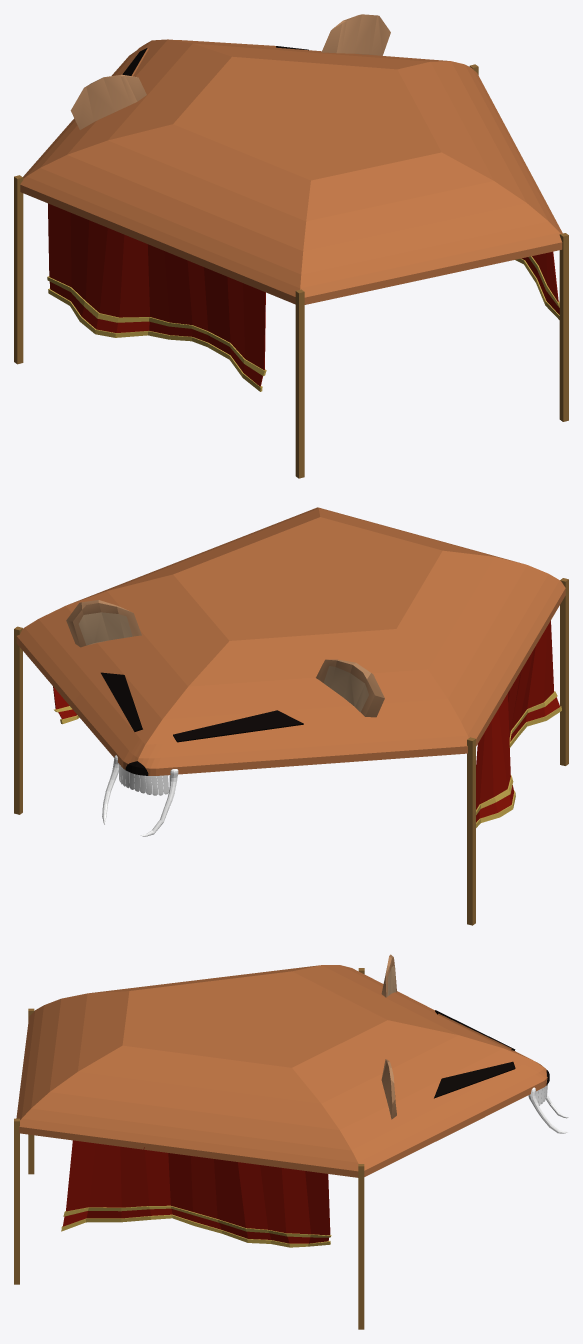
Rendered from lv3huntCenter.glb.
3 renders of one model, top to bottom at view 1: azimuth 30°, elevation 25°; view 2: azimuth 150°, elevation 25°; view 3: azimuth 270°, elevation 25°, orthographic. The views are drawn at different scales.
Visible parts, largest first — view 1: Plane.001, Plane, Cube.001, Plane.002; view 2: Plane.001, Plane, Cube.001, Plane.002, Cylinder; view 3: Plane.001, Plane, Cube.001, Plane.002, Cylinder.
Boxes of the visible parts, bbox=[...] form: Plane.001: bbox=[20, 39, 562, 304]; Plane: bbox=[47, 203, 559, 391]; Cube.001: bbox=[14, 64, 568, 478]; Plane.002: bbox=[70, 14, 390, 129]; Plane.001: bbox=[16, 507, 565, 775]; Plane: bbox=[53, 620, 561, 827]; Cube.001: bbox=[14, 578, 568, 925]; Plane.002: bbox=[66, 600, 384, 717]; Cylinder: bbox=[102, 755, 178, 836]; Plane.001: bbox=[16, 965, 549, 1177]; Plane: bbox=[61, 1140, 331, 1247]; Cube.001: bbox=[14, 968, 364, 1329]; Plane.002: bbox=[381, 954, 396, 1119]; Cylinder: bbox=[528, 1084, 568, 1133].
Size of the model in its own units: 6.55 by 3.38 by 7.75.
